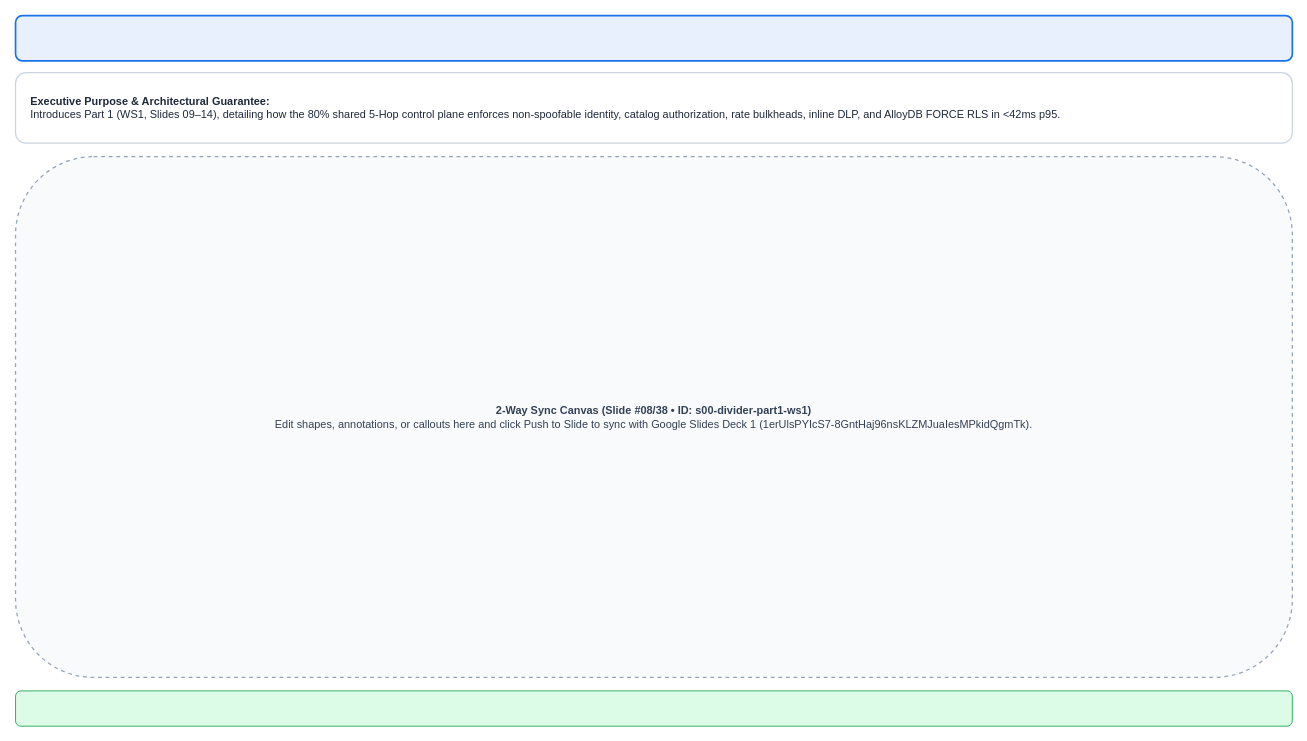
Image size: 1307x741. Some labels were removed from this diagram. The centre of each missing label's shape, as x and y in pixels:
Slide 08 • Part 1 (WS1) Framing: Reference Taxonomy & Shared 5-Hop Control Plane: the point at 653,37
Verified Multi-Tenant Architecture Blueprint • 2-Way Sync Active: the point at 653,708
